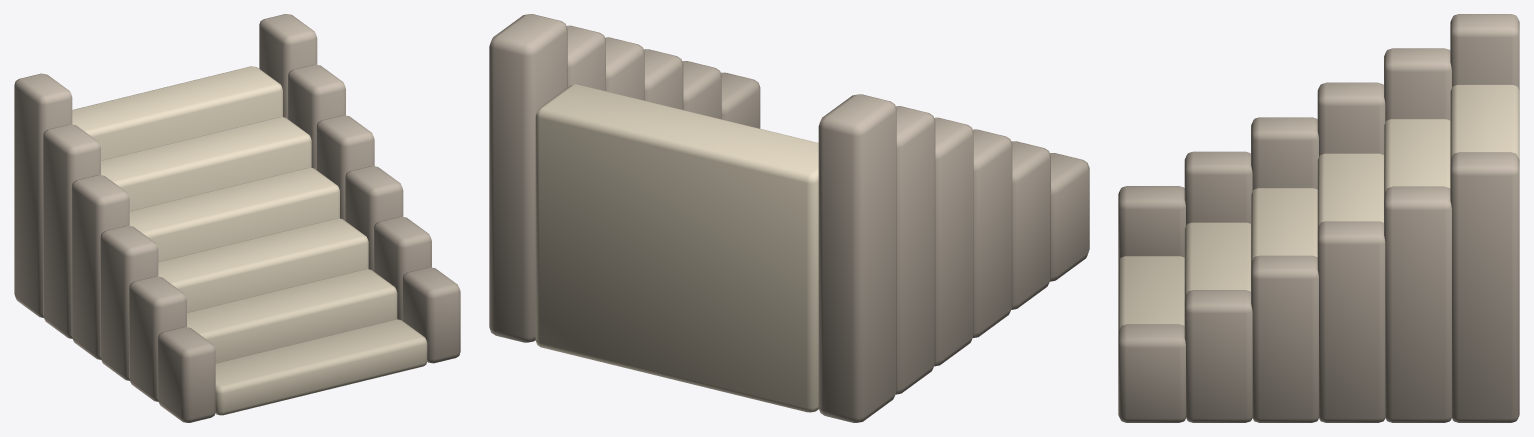
Rendered from stone_stairs.glb.
3 renders of one model, left to right at view 1: azimuth 30°, elevation 25°; view 2: azimuth 150°, elevation 25°; view 3: azimuth 270°, elevation 25°, orthographic. The views are drawn at different scales.
Parts seen in each view (by area): view 1: Stone_Stairs_Steps, Stone_Stairs_Cheeks; view 2: Stone_Stairs_Cheeks, Stone_Stairs_Steps; view 3: Stone_Stairs_Cheeks, Stone_Stairs_Steps.
Part boxes in pixels (<box>): Stone_Stairs_Steps: <box>72,66,427,415</box>; Stone_Stairs_Cheeks: <box>14,14,460,422</box>; Stone_Stairs_Cheeks: <box>489,14,1089,422</box>; Stone_Stairs_Steps: <box>535,84,818,412</box>; Stone_Stairs_Cheeks: <box>1118,14,1519,422</box>; Stone_Stairs_Steps: <box>1118,84,1519,331</box>.
Size of the model in its own units: 2.62 by 2 by 2.82.
